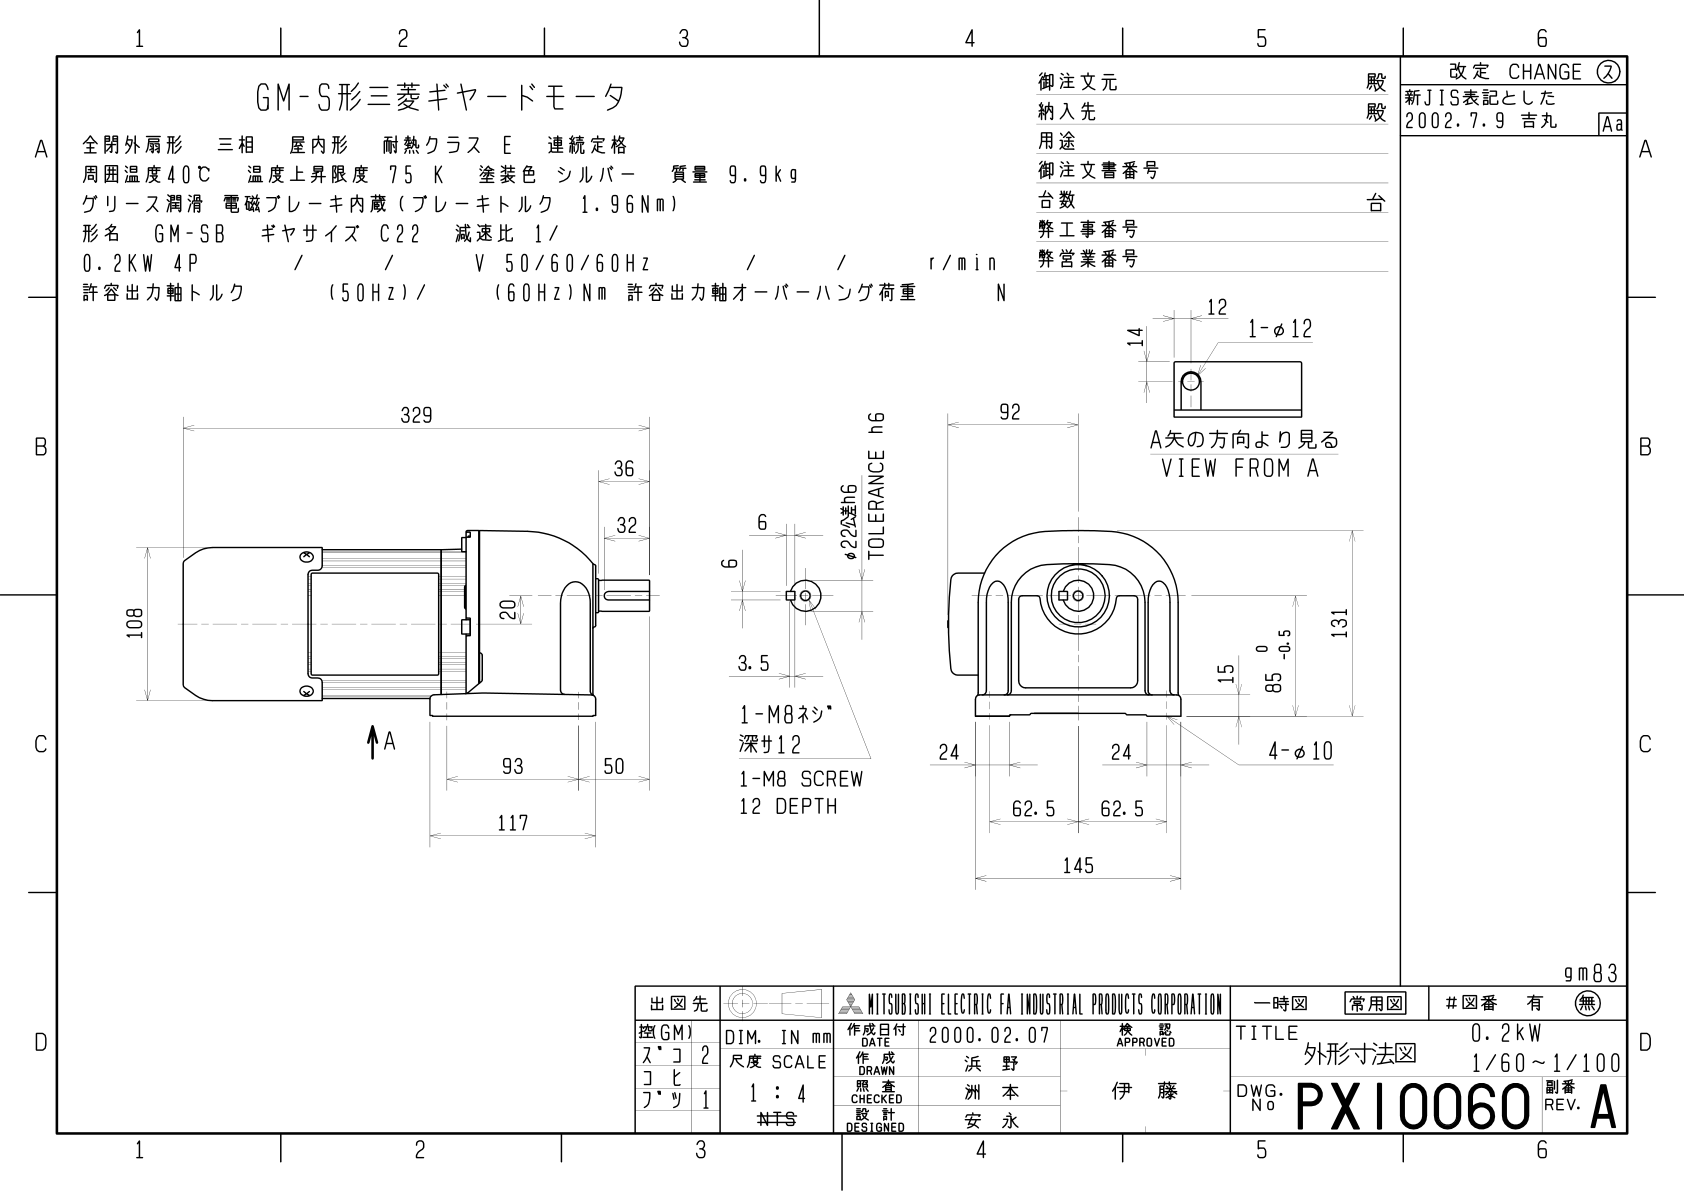GM_S_屋内＿三相_脚: (44, 293, 1375, 941)
